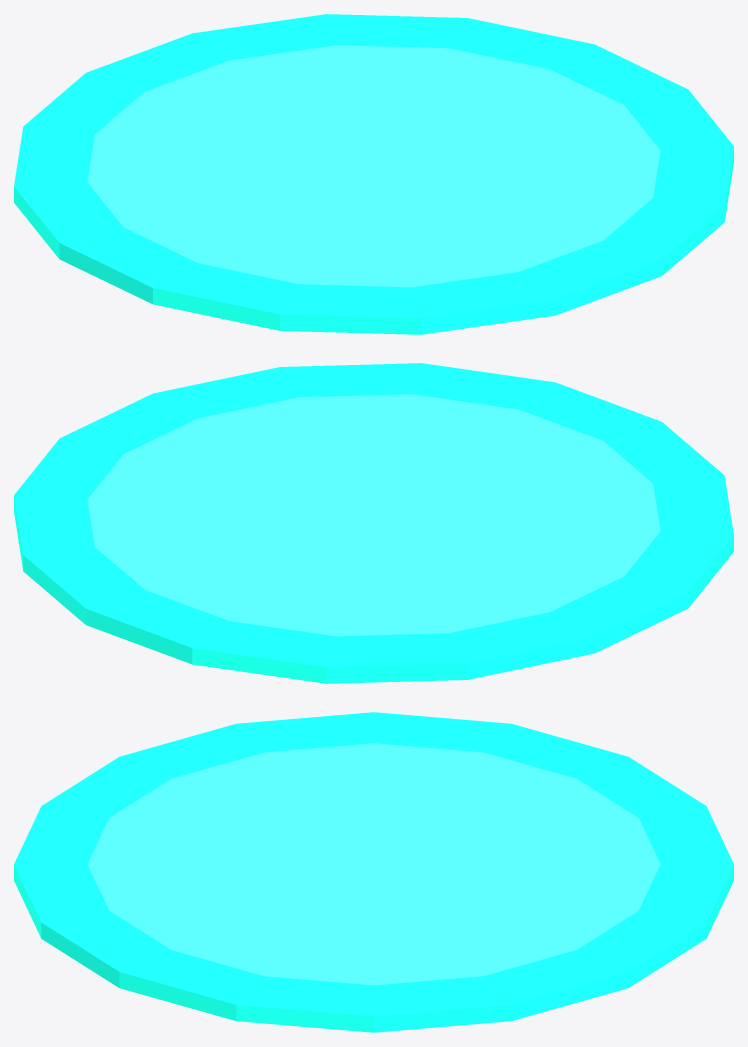
Rendered from pool.glb.
3 renders of one model, top to bottom at view 1: azimuth 30°, elevation 25°; view 2: azimuth 150°, elevation 25°; view 3: azimuth 270°, elevation 25°, orthographic.
Visible parts, largest first — view 1: Pool; view 2: Pool; view 3: Pool.
Boxes of the visible parts, box(x1,y1,x2,y2) form: Pool: box(14, 14, 733, 334); Pool: box(14, 363, 733, 683); Pool: box(14, 712, 733, 1032).
Size of the model in its own units: 2 by 0.05 by 2.
